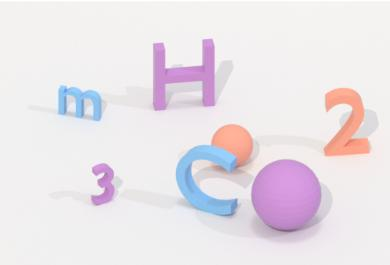0-Tron: (246, 156, 325, 235), (209, 119, 253, 171)
2: (317, 82, 372, 160)
3: (87, 160, 118, 209)
C: (172, 141, 243, 220)
H: (148, 33, 218, 117)
m: (54, 80, 106, 125)
